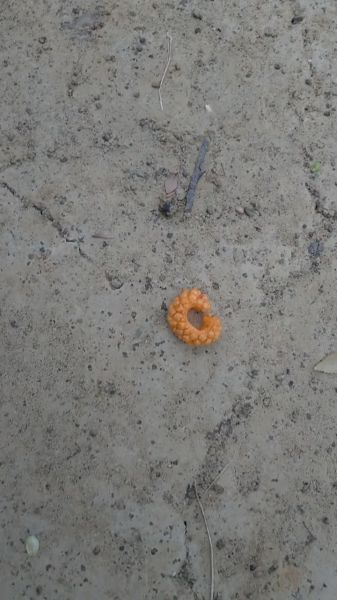eggs: (159, 280, 229, 348)
